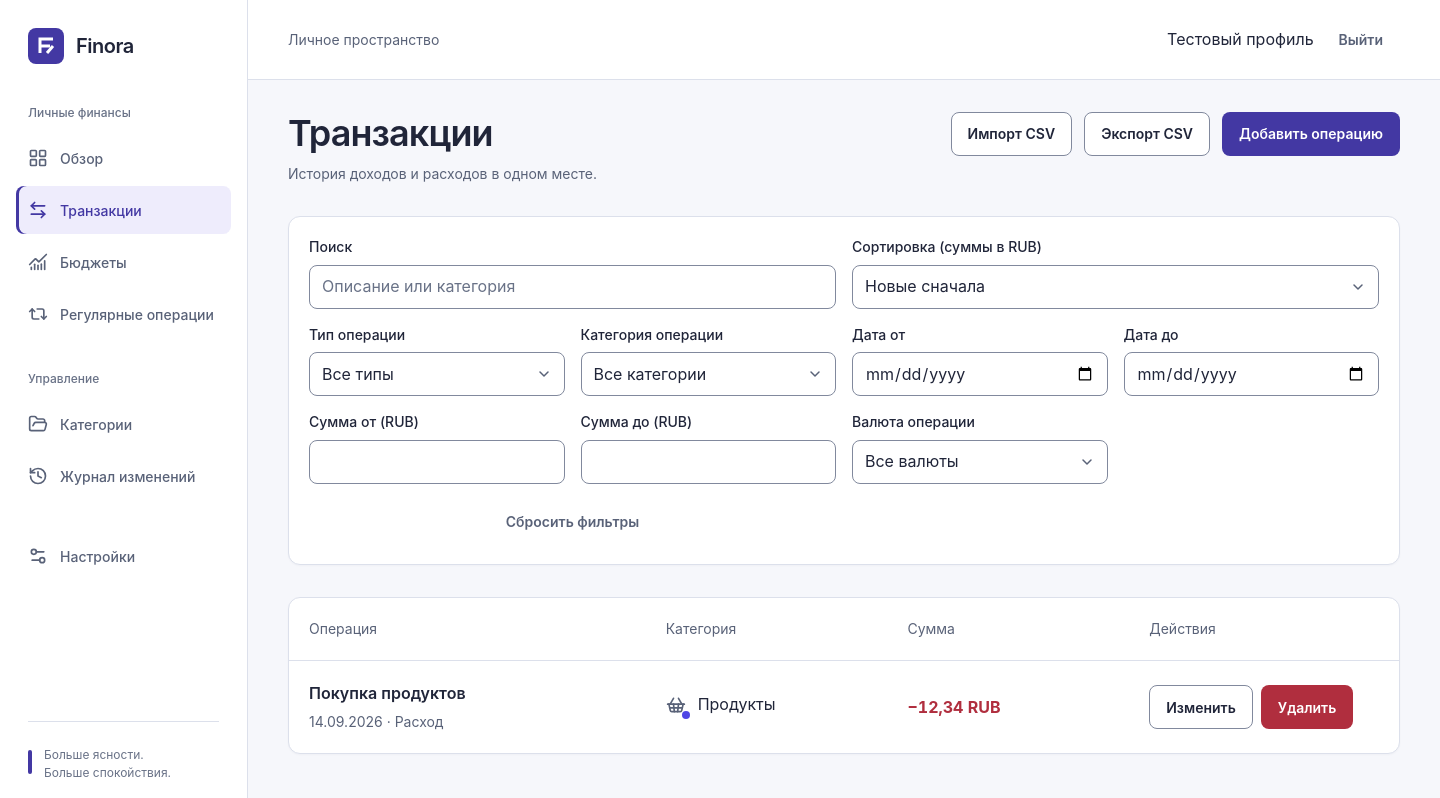
Test case: Validation формы не отправляет POST, сообщает ошибку и focus
Click the button "Добавить операцию" at (1311, 134), box left=1222, top=112, right=1400, bottom=156
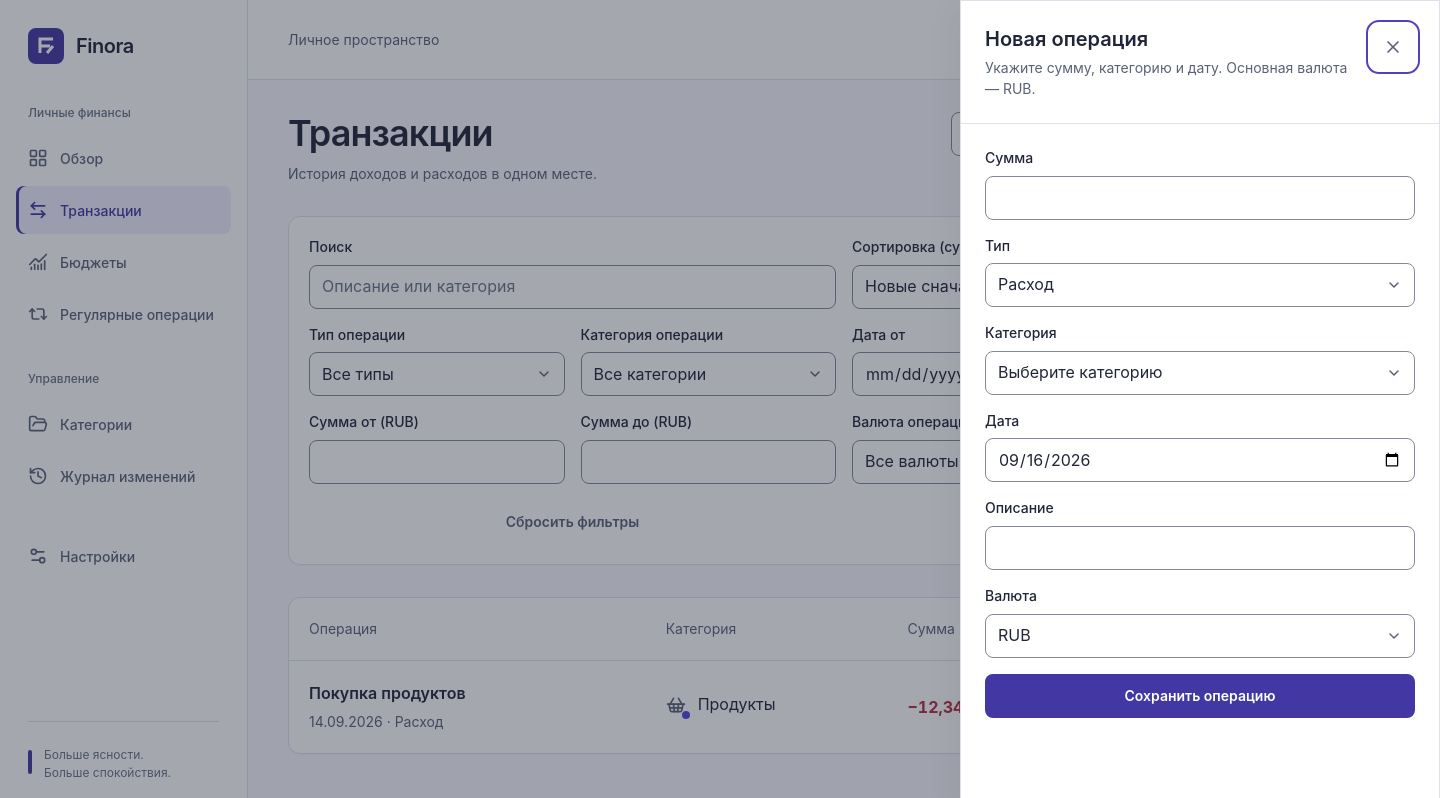
Expected: the button "Сохранить операцию" is enabled
Click the button "Сохранить операцию" at (1200, 696), box left=985, top=674, right=1415, bottom=718
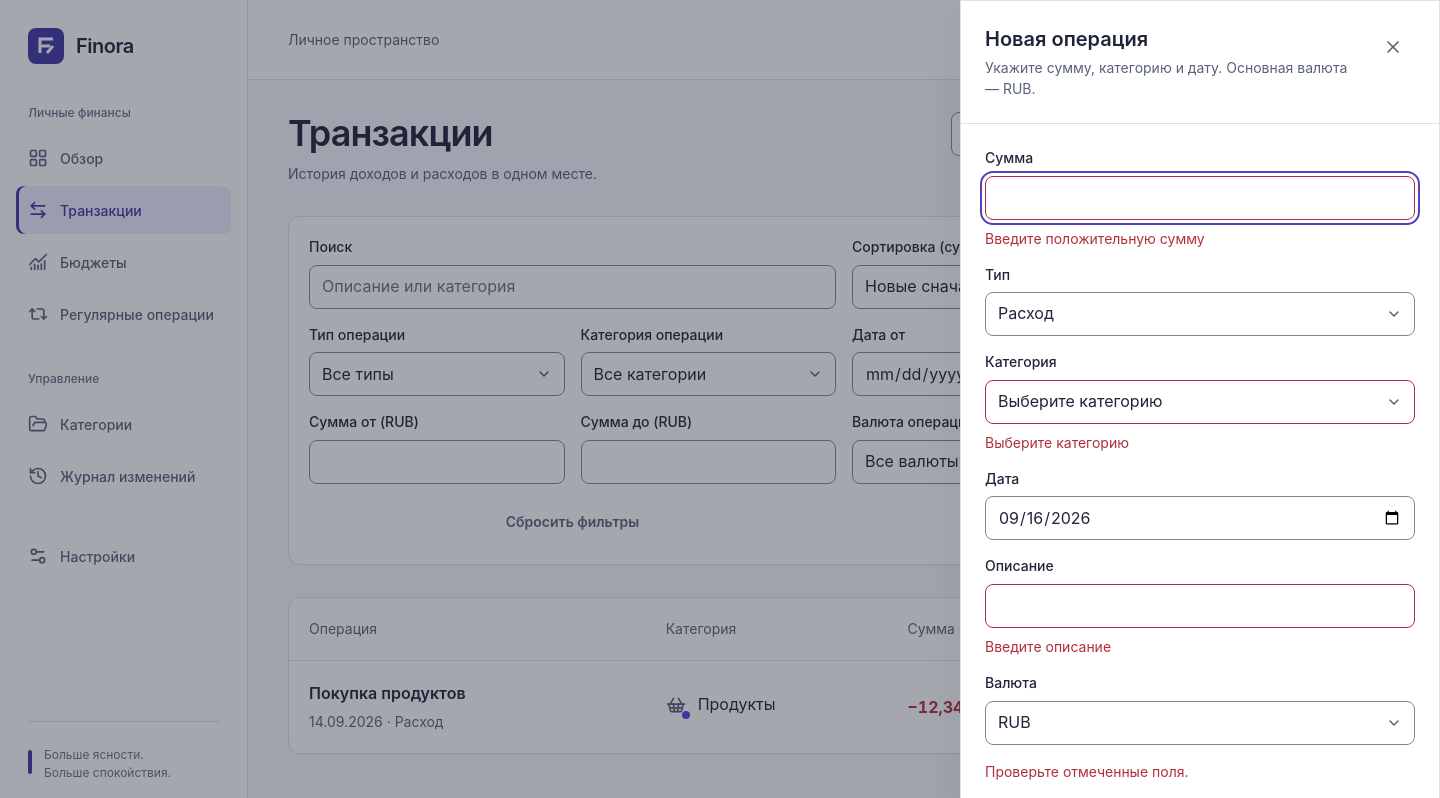
Expected: the message "Проверьте отмеченные поля." is shown, left=985, top=763, right=1188, bottom=780
